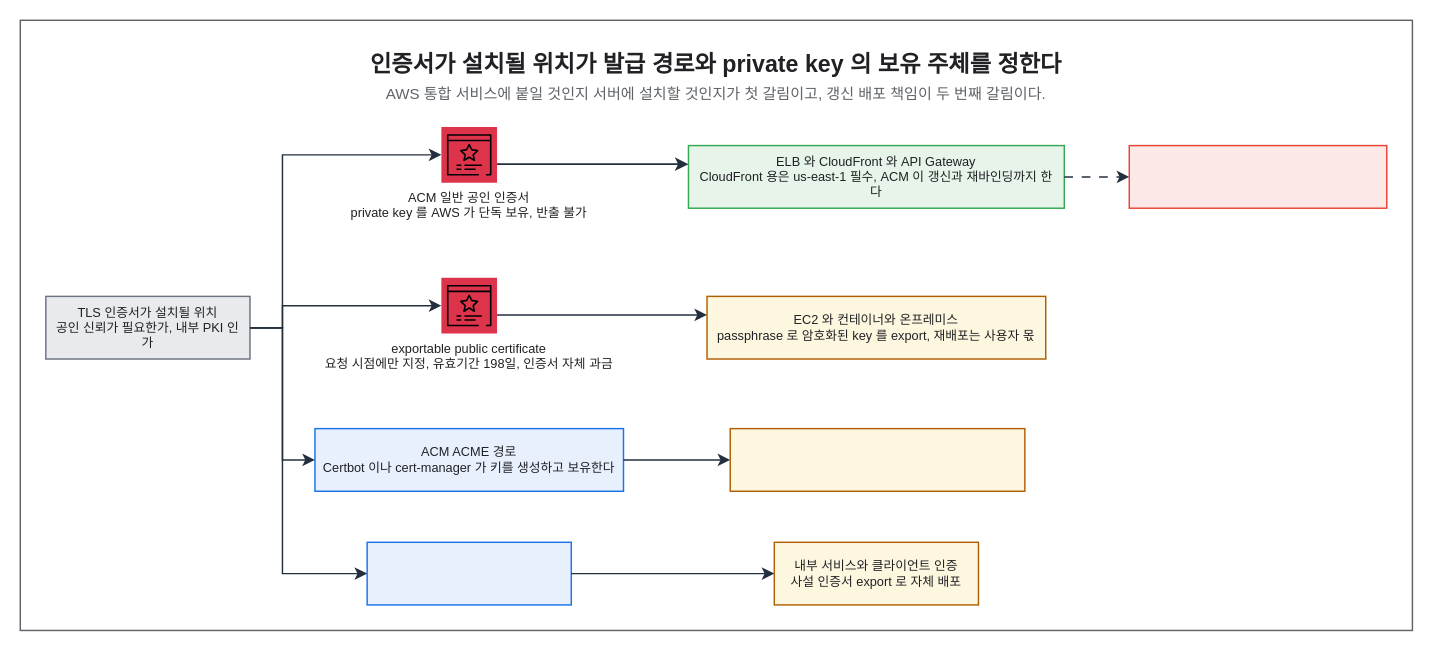
Image size: 1434x652. Some labels were removed from this diagram. Here are the shapes that lost their labels. From the top down, the box of each, then its label:
(1128, 144, 1387, 208): 인증서는 리전 리소스다 리전 간 복사가 불가하므로 리전마다 요청하거나 임포트한다
(729, 427, 1025, 491): 자체 관리 인프라 ACM 인벤토리에 보이지만 AWS 통합 서비스에 바인딩할 수 없다
(366, 541, 572, 605): AWS Private CA 사설 CA 계층, 공인 신뢰 체인이 아니다
